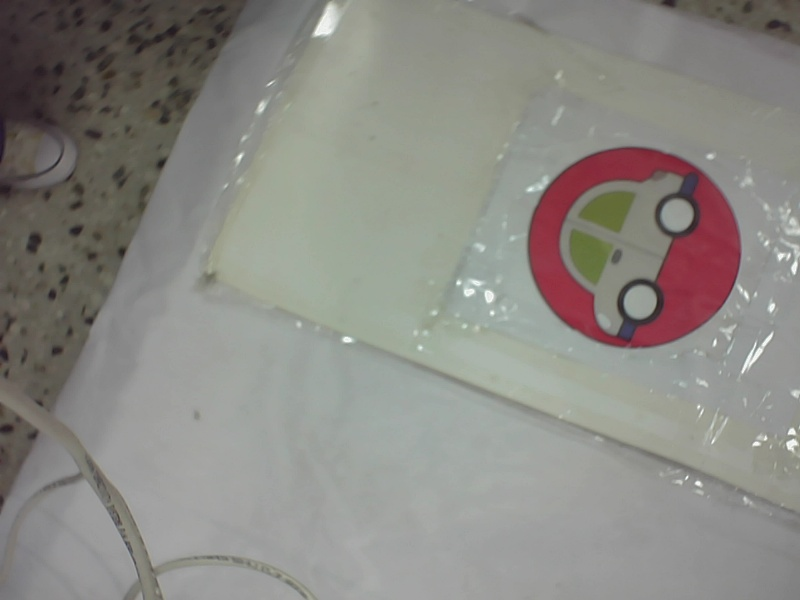areaC: (530, 129, 744, 355)
